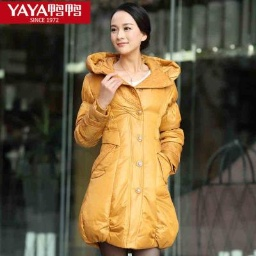face: (100, 2, 164, 63)
